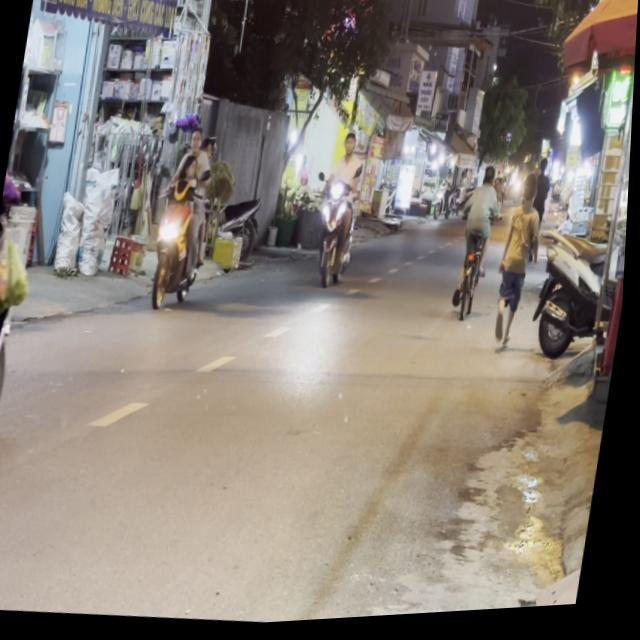helmet: (341, 127, 359, 158)
licenseplate: (0, 48, 64, 482), (144, 117, 225, 315), (307, 124, 373, 295)
motorcyclist: (179, 154, 200, 183), (187, 125, 205, 156)
